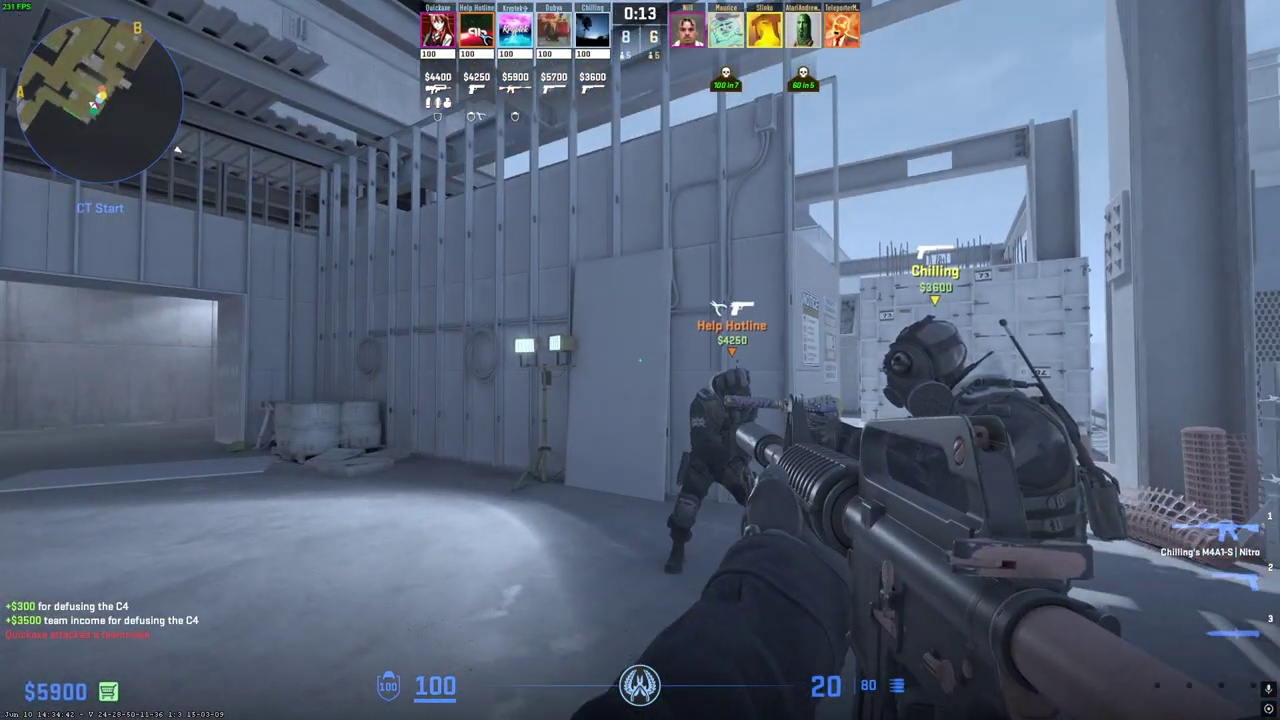CT: (893, 316, 1094, 641), (668, 365, 763, 572)
